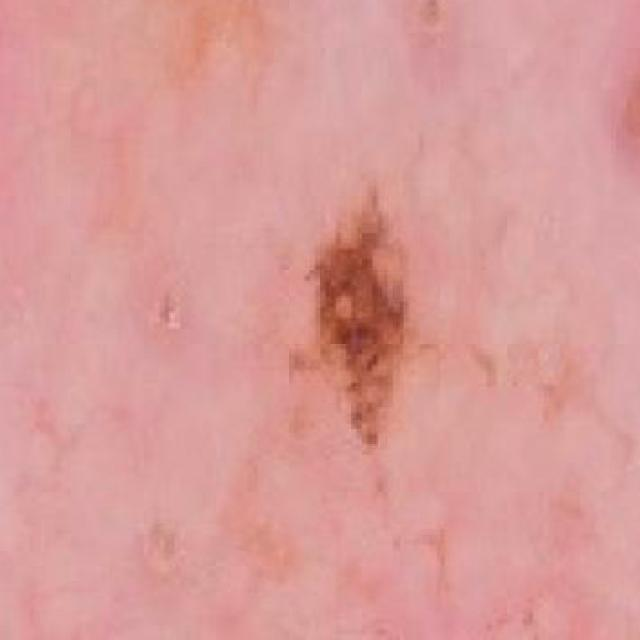BKL: (300, 150, 468, 460)
